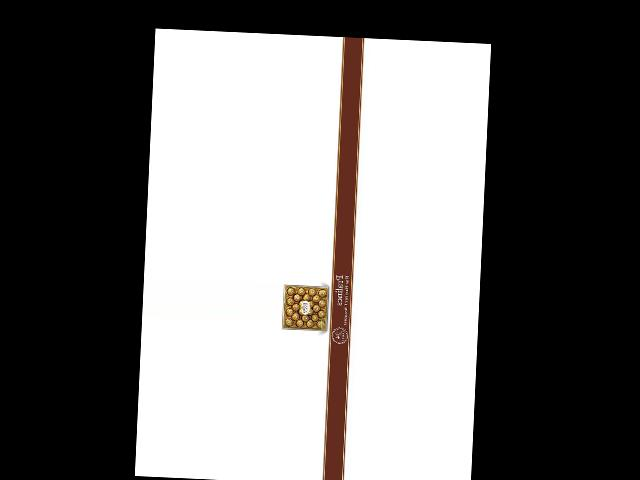chocolate: (278, 282, 331, 334)
